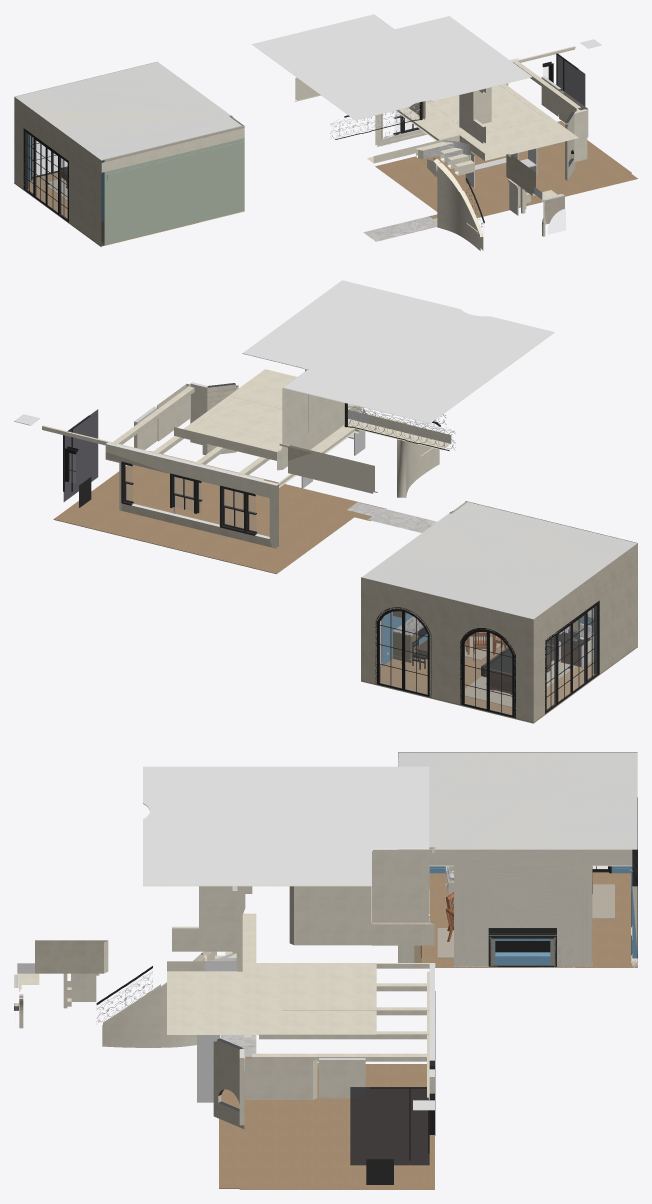
The model's file is game-room-9280438cfb4a.glb.
3 renders of one model, top to bottom at view 1: azimuth 30°, elevation 25°; view 2: azimuth 150°, elevation 25°; view 3: azimuth 270°, elevation 25°, orthographic. The views are drawn at different scales.
Visible parts, largest first — view 1: game-room-look-9d91b47435c6fb33, game-room-4a969f5cc1ae3dfe, game-room-30c5953c9ad73e5d, game-room-look-3b0077416469e01b, game-room-look-2575515a05775d9e, game-room-039192b0560cfac3, game-room-50d54560d247b537, game-room-9fbf623a647a21dd, game-room-look-8c6a7019fd0063e7, game-room-2575515a05775d9e, game-room-3b0077416469e01b, game-room-look-cbd4bf73d9724a66 (+16 smaller); view 2: game-room-look-9d91b47435c6fb33, game-room-4a969f5cc1ae3dfe, game-room-look-3b0077416469e01b, game-room-969b861f9850351e, game-room-039192b0560cfac3, game-room-look-2575515a05775d9e, game-room-50d54560d247b537, game-room-look-bfb9fa537cd11d1d, game-room-67b6630d0fa028c8, game-room-b7bc8997c06ae95e, game-room-9fbf623a647a21dd, game-room-3b0077416469e01b (+16 smaller); view 3: game-room-look-9d91b47435c6fb33, game-room-4a969f5cc1ae3dfe, game-room-look-3b0077416469e01b, game-room-3e6709f91b43c3bf, game-room-look-2575515a05775d9e, game-room-50d54560d247b537, game-room-look-cbd4bf73d9724a66, game-room-55ff1dfd7b659ec1, game-room-look-69af8f587252f9fa, game-room-3b0077416469e01b, game-room-look-32b959c9aa406288, game-room-look-8c6a7019fd0063e7 (+20 smaller).
Boxes of the visible parts, bbox=[...] form: game-room-look-9d91b47435c6fb33: bbox=[251, 14, 531, 120]; game-room-4a969f5cc1ae3dfe: bbox=[14, 62, 242, 160]; game-room-30c5953c9ad73e5d: bbox=[104, 126, 244, 245]; game-room-look-3b0077416469e01b: bbox=[375, 121, 637, 218]; game-room-look-2575515a05775d9e: bbox=[367, 84, 578, 163]; game-room-039192b0560cfac3: bbox=[14, 97, 104, 246]; game-room-50d54560d247b537: bbox=[14, 61, 243, 160]; game-room-9fbf623a647a21dd: bbox=[23, 128, 68, 222]; game-room-look-8c6a7019fd0063e7: bbox=[427, 157, 483, 250]; game-room-2575515a05775d9e: bbox=[101, 128, 244, 172]; game-room-3b0077416469e01b: bbox=[14, 172, 239, 246]; game-room-look-cbd4bf73d9724a66: bbox=[557, 55, 585, 106]; game-room-look-9d91b47435c6fb33: bbox=[242, 280, 554, 423]; game-room-4a969f5cc1ae3dfe: bbox=[361, 502, 637, 619]; game-room-look-3b0077416469e01b: bbox=[53, 451, 386, 574]; game-room-969b861f9850351e: bbox=[361, 578, 529, 721]; game-room-039192b0560cfac3: bbox=[529, 544, 637, 722]; game-room-look-2575515a05775d9e: bbox=[174, 369, 451, 460]; game-room-50d54560d247b537: bbox=[361, 502, 637, 619]; game-room-look-bfb9fa537cd11d1d: bbox=[105, 442, 278, 548]; game-room-67b6630d0fa028c8: bbox=[460, 628, 515, 718]; game-room-b7bc8997c06ae95e: bbox=[375, 607, 431, 697]; game-room-9fbf623a647a21dd: bbox=[545, 600, 599, 713]; game-room-3b0077416469e01b: bbox=[361, 644, 637, 722]; game-room-look-9d91b47435c6fb33: bbox=[143, 766, 429, 886]; game-room-4a969f5cc1ae3dfe: bbox=[398, 752, 637, 849]; game-room-look-3b0077416469e01b: bbox=[219, 1056, 434, 1189]; game-room-3e6709f91b43c3bf: bbox=[398, 849, 632, 966]; game-room-look-2575515a05775d9e: bbox=[167, 913, 376, 1034]; game-room-50d54560d247b537: bbox=[398, 752, 637, 849]; game-room-look-cbd4bf73d9724a66: bbox=[350, 1087, 429, 1165]; game-room-55ff1dfd7b659ec1: bbox=[398, 849, 631, 967]; game-room-look-69af8f587252f9fa: bbox=[289, 886, 371, 945]; game-room-3b0077416469e01b: bbox=[398, 872, 637, 967]; game-room-look-32b959c9aa406288: bbox=[372, 849, 429, 922]; game-room-look-8c6a7019fd0063e7: bbox=[102, 951, 216, 1047].
Bounding box in the file's own units: 21.68 × 6.36 × 16.78.
Materials: 61 (16 with a texture image).
